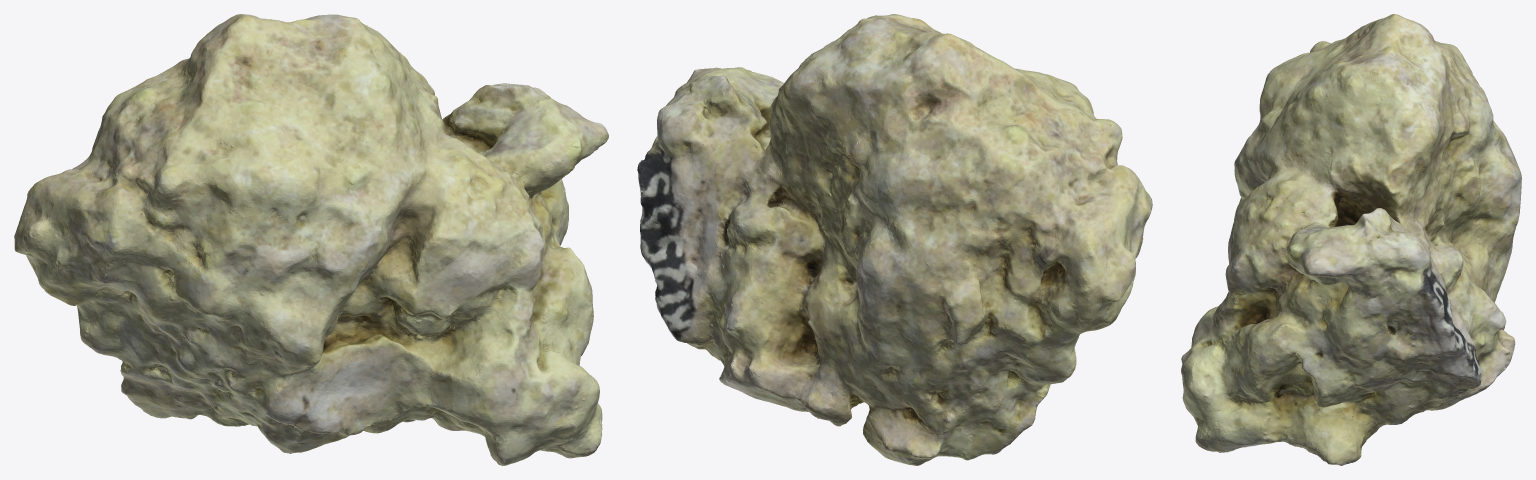
Rendered from Sulfur.obj.
3 views of the same model, side by side, from view 1: azimuth 30°, elevation 25°; view 2: azimuth 150°, elevation 25°; view 3: azimuth 270°, elevation 25° (orthographic). The views are drawn at different scales.
Parts seen in each view (by area): view 1: default; view 2: default; view 3: default.
Part boxes in pixels (left/top/right/bottom): default: left=14, top=14, right=608, bottom=465; default: left=637, top=14, right=1152, bottom=465; default: left=1181, top=14, right=1521, bottom=465.
Size of the model in its own units: 30.74 by 23.59 by 21.04.
